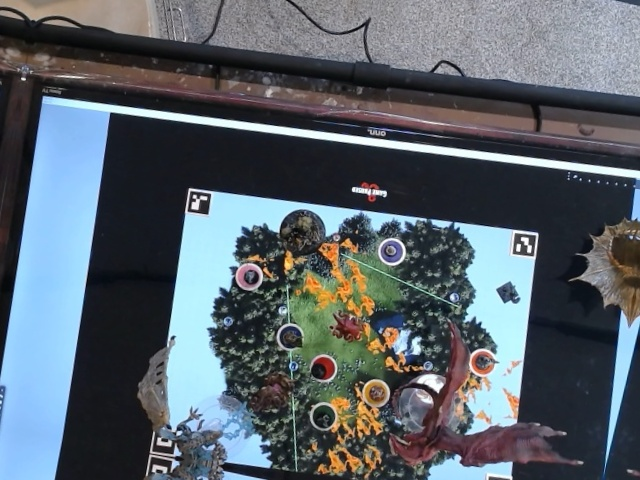blue: (267, 315, 310, 353)
green: (301, 398, 344, 438)
orange: (459, 341, 500, 383)
pink: (229, 257, 269, 300)
red: (301, 350, 345, 386)
violet: (369, 235, 409, 269)
yellow: (357, 373, 394, 411)
